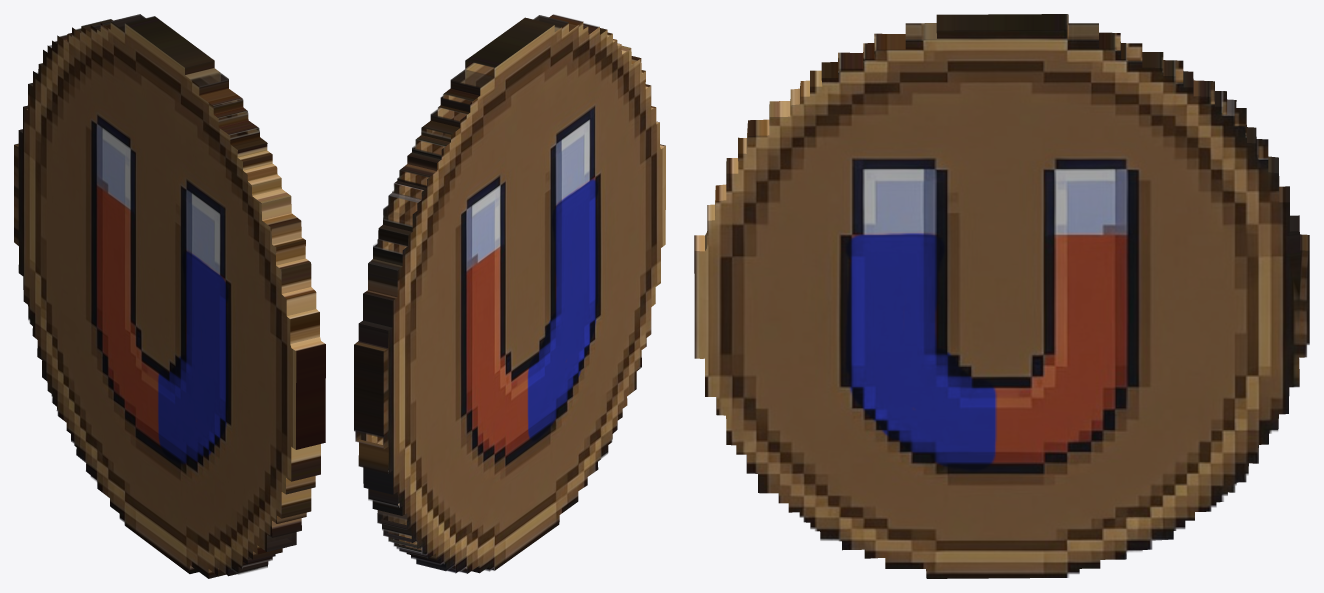
Rendered from magnet.glb.
The picture shows the model from 3 angles, left to right: view 1: azimuth 30°, elevation 25°; view 2: azimuth 150°, elevation 25°; view 3: azimuth 270°, elevation 25°; orthographic projection. The views are drawn at different scales.
Parts seen in each view (by area): view 1: coin_2x; view 2: coin_2x; view 3: coin_2x.
Boxes of the visible parts, left/top/right/bottom form: coin_2x: left=14, top=14, right=325, bottom=578; coin_2x: left=354, top=14, right=665, bottom=573; coin_2x: left=694, top=14, right=1309, bottom=578.
Size of the model in its own units: 0.0541 by 0.878 by 0.8912.
1 material, 1 textured.
